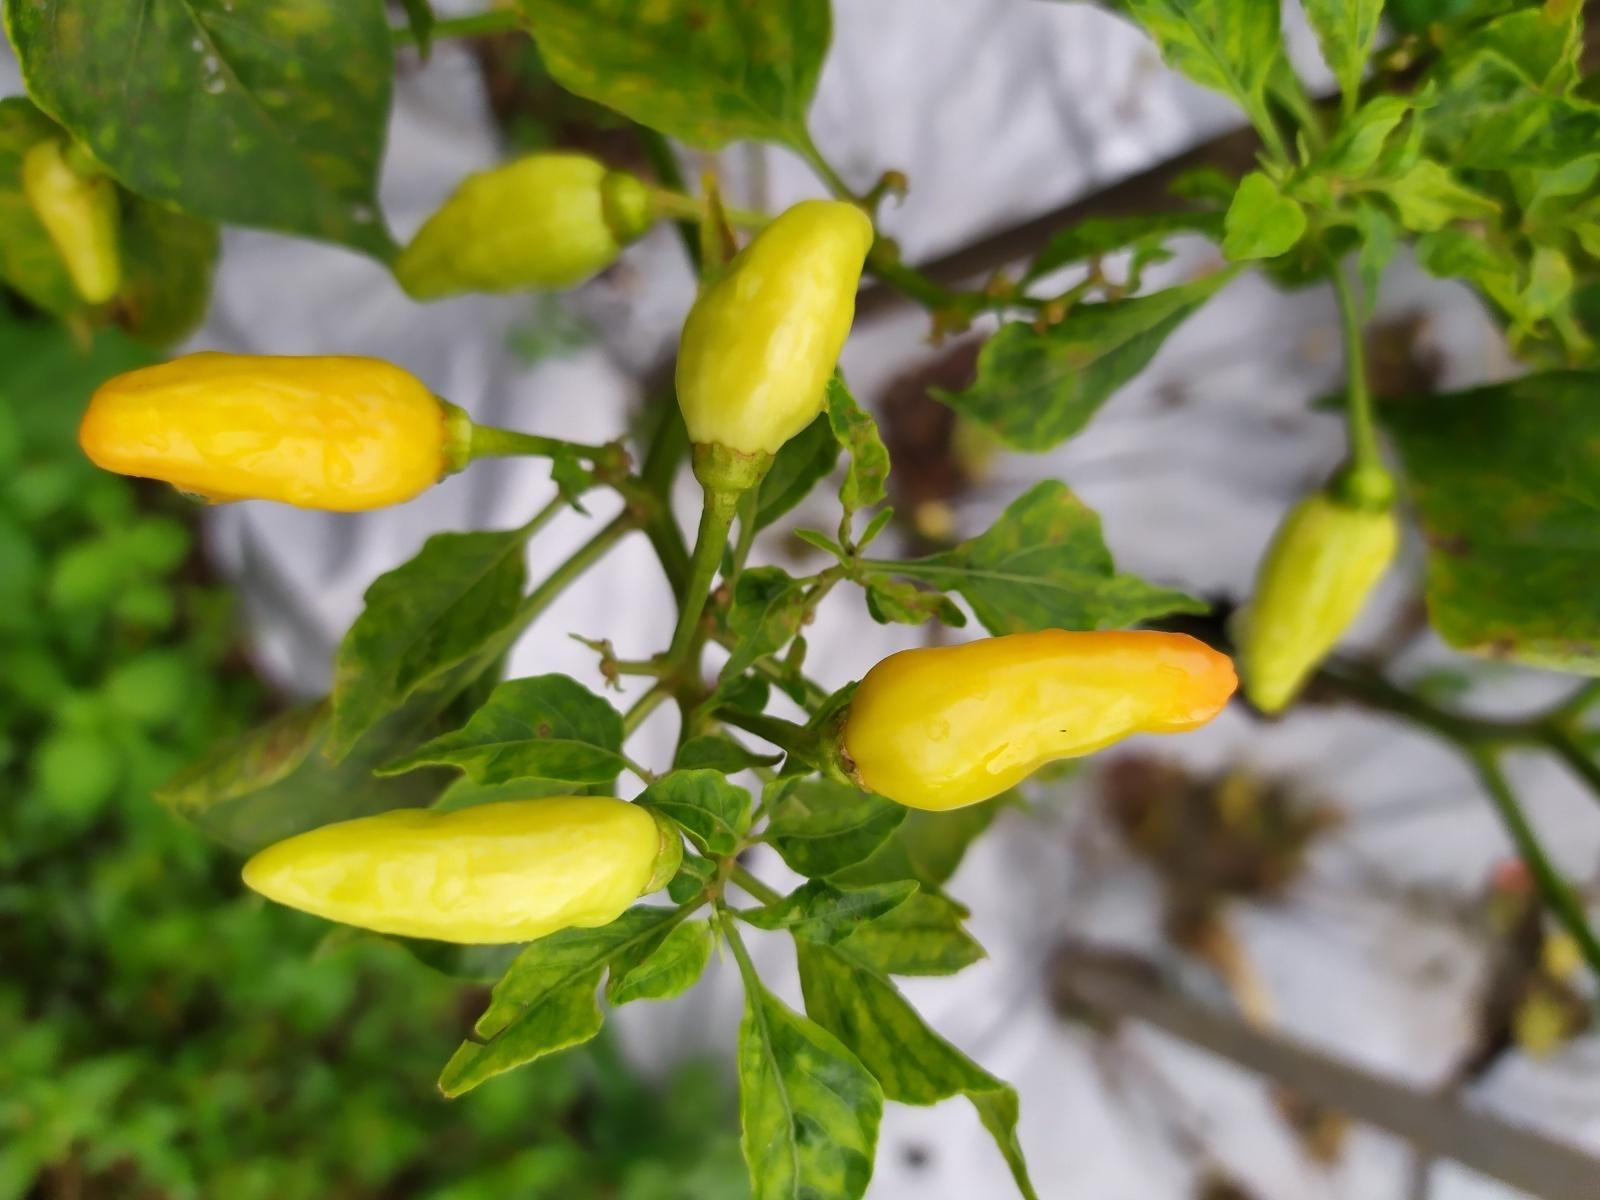cabai_normal: (838, 629, 1238, 812), (242, 794, 661, 944), (79, 352, 449, 512), (675, 198, 876, 460), (397, 151, 637, 305), (1242, 490, 1398, 715), (19, 139, 126, 308)
